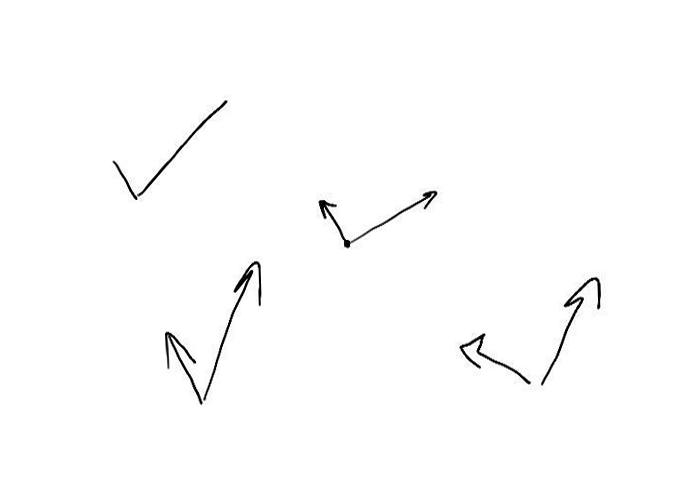arrow: (204, 260, 262, 403), (543, 277, 603, 384), (349, 188, 438, 243), (461, 329, 529, 383), (162, 330, 203, 402), (318, 198, 346, 246)
arrownohead: (135, 97, 228, 193), (113, 157, 135, 200)
